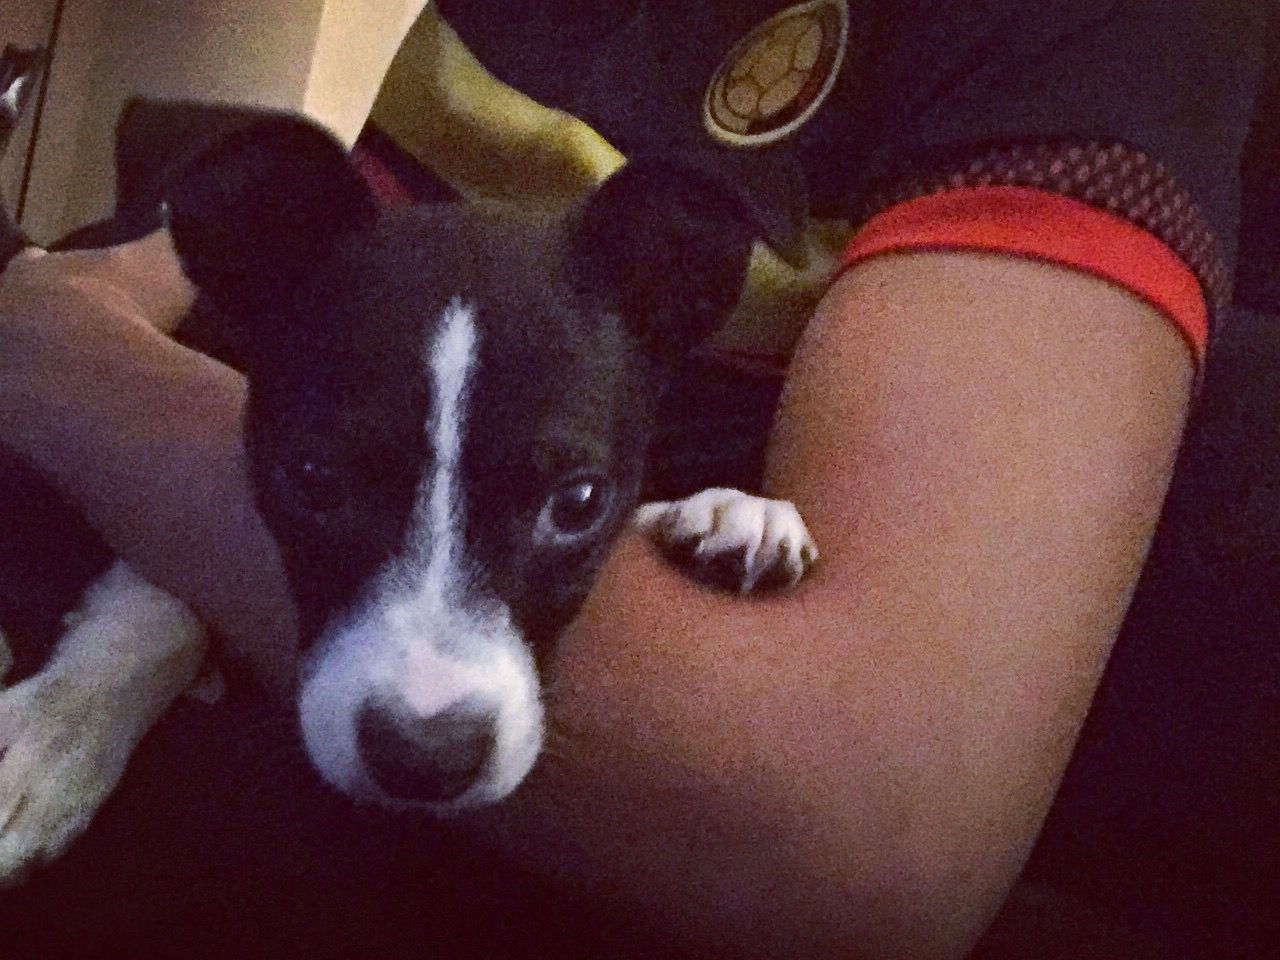Harley: (91, 85, 839, 839)
